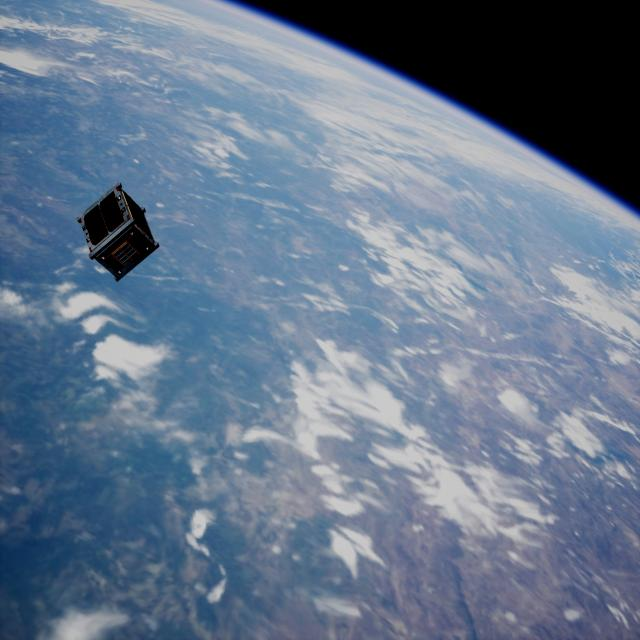satellite: (75, 178, 158, 283)
